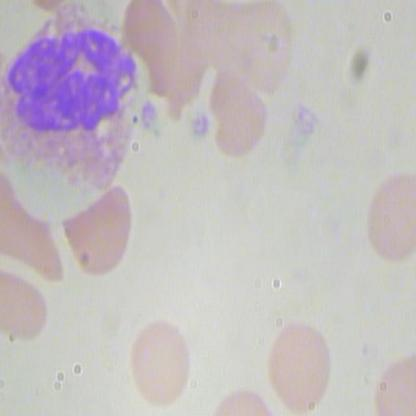Platelets: (140, 98, 162, 133), (190, 113, 210, 142)
RBC: (60, 180, 138, 281), (198, 68, 276, 169), (344, 171, 415, 270), (124, 318, 195, 415), (264, 317, 335, 414)
WBC: (1, 10, 144, 192)
